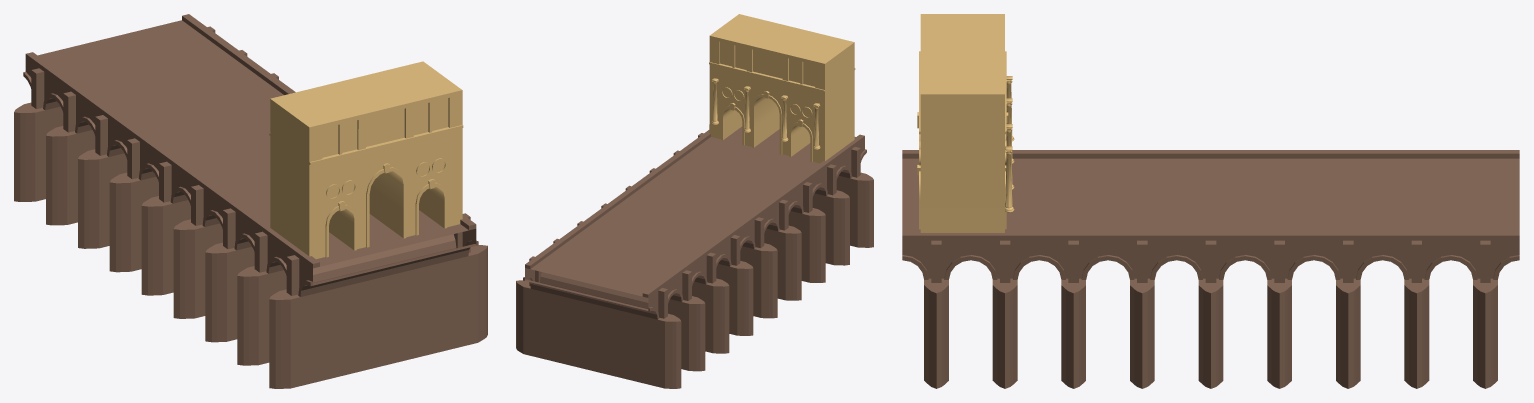
Rendered from Bridge.fbx.
3 views of the same model, side by side, from view 1: azimuth 30°, elevation 25°; view 2: azimuth 150°, elevation 25°; view 3: azimuth 270°, elevation 25° (orthographic). The views are drawn at different scales.
Parts seen in each view (by area): view 1: Bridge LOD0; view 2: Bridge LOD0; view 3: Bridge LOD0.
Boxes of the visible parts, x1=… form: Bridge LOD0: x1=14, y1=14, x2=487, y2=388; Bridge LOD0: x1=516, y1=14, x2=873, y2=388; Bridge LOD0: x1=902, y1=14, x2=1519, y2=388.
Size of what is drawn, in the model's own units: 117 by 58.01 by 51.44.
